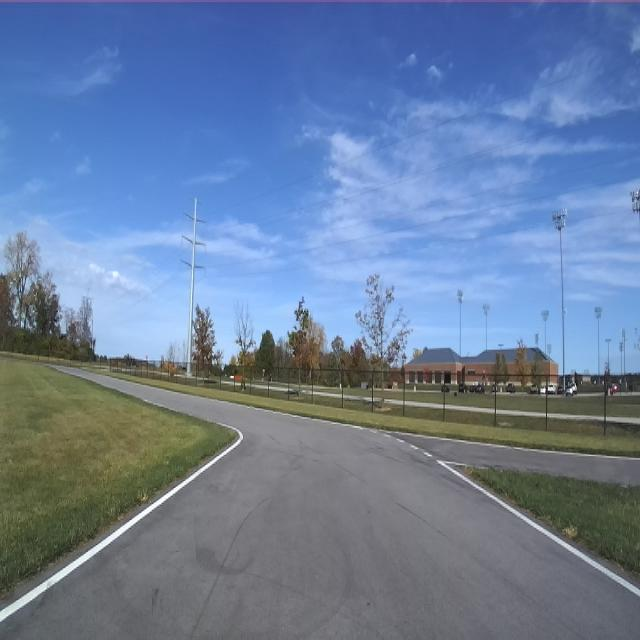white-line: (0, 423, 243, 622), (436, 460, 640, 596), (408, 444, 418, 449), (424, 451, 432, 457), (396, 438, 404, 442), (384, 434, 391, 437), (402, 441, 406, 442)
